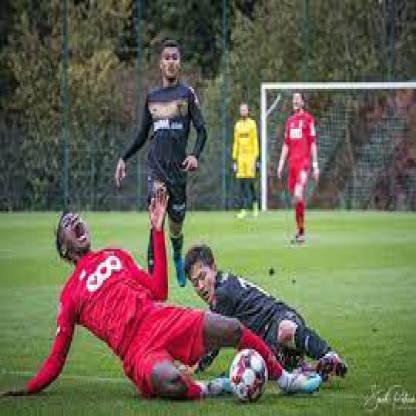Fall_Down: (1, 181, 325, 403)
